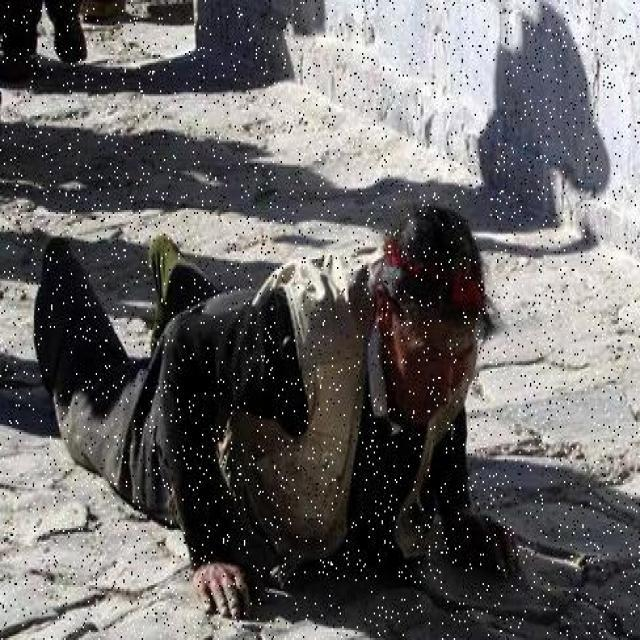fall: (35, 198, 528, 585)
